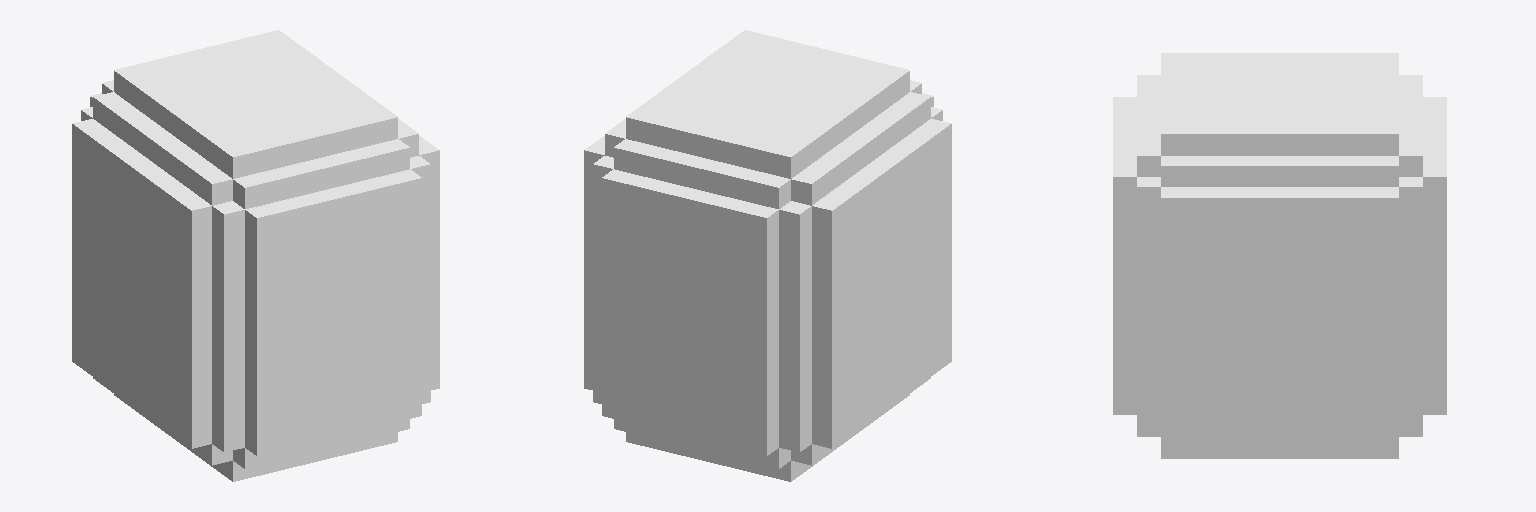
Rendered from slime_a-0-step_r.obj.
3 renders of one model, left to right at view 1: azimuth 30°, elevation 25°; view 2: azimuth 150°, elevation 25°; view 3: azimuth 270°, elevation 25°, orthographic.
Parts seen in each view (by area): view 1: step_r; view 2: step_r; view 3: step_r.
Boxes of the visible parts, box(x1,y1,x2,y2) form: step_r: box(72, 30, 439, 481); step_r: box(584, 30, 951, 481); step_r: box(1113, 53, 1446, 458).
Bounding box in the file's own units: 1.2 × 1.5 × 1.4.